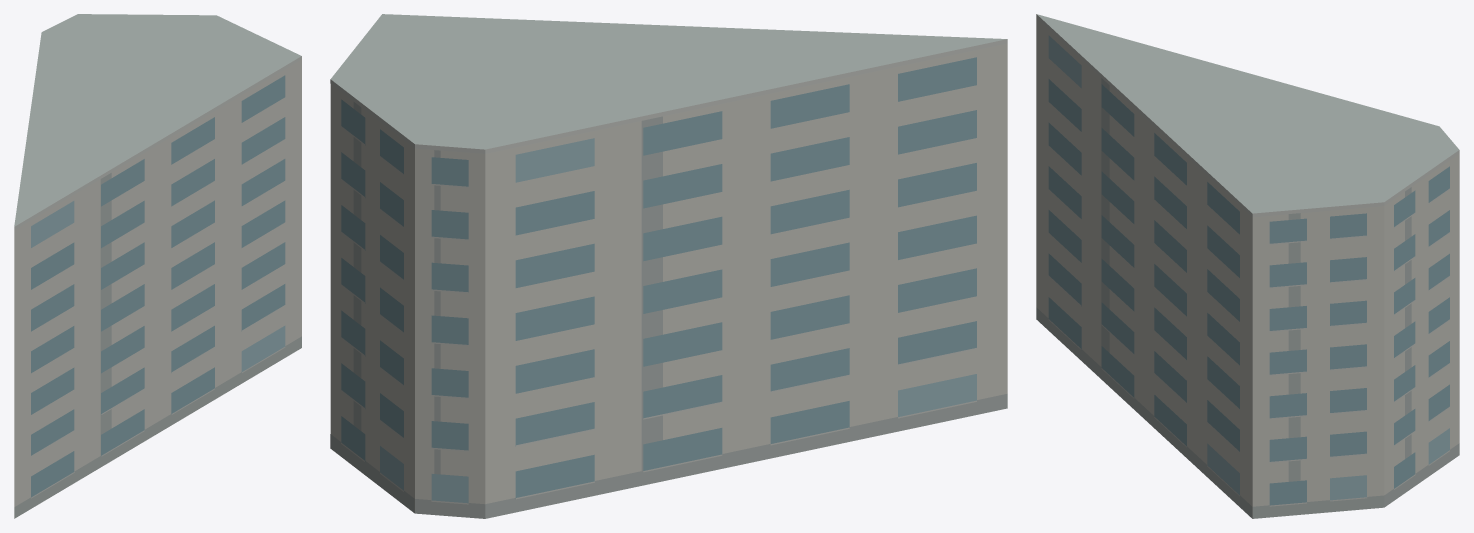
Rendered from survey-upis-32855300.glb.
The picture shows the model from 3 angles, left to right: view 1: azimuth 30°, elevation 25°; view 2: azimuth 150°, elevation 25°; view 3: azimuth 270°, elevation 25°; orthographic projection. The views are drawn at different scales.
Visible parts, largest first — view 1: survey-upis-32855300.tmp; view 2: survey-upis-32855300.tmp; view 3: survey-upis-32855300.tmp.
Part boxes in pixels (x1,y1,x2,y2): survey-upis-32855300.tmp: (14, 14, 301, 518); survey-upis-32855300.tmp: (330, 14, 1007, 518); survey-upis-32855300.tmp: (1036, 14, 1459, 518).
Size of the model in its own units: 28.46 by 20.3 by 25.5.
